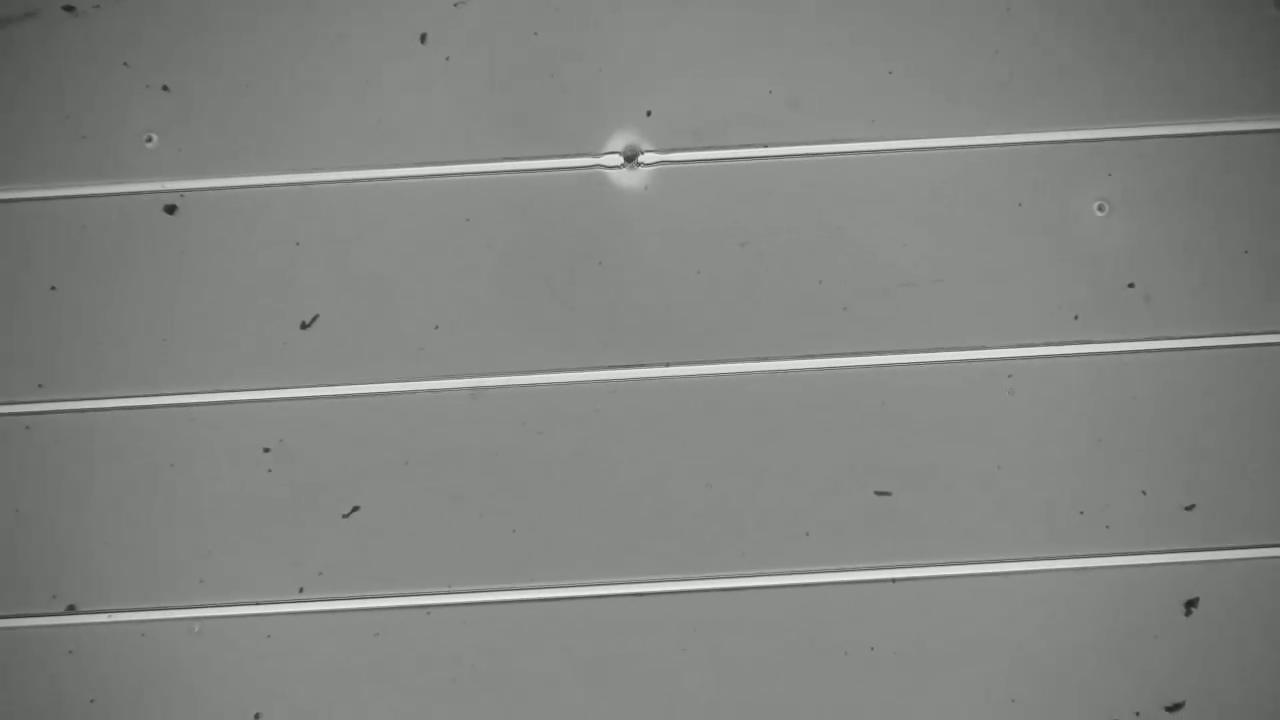stains_enbedded: (604, 132, 659, 183)
